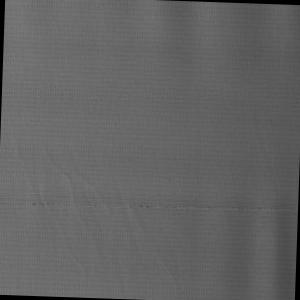Wrinkle: (187, 2, 300, 300), (1, 126, 189, 300), (51, 1, 181, 73)
